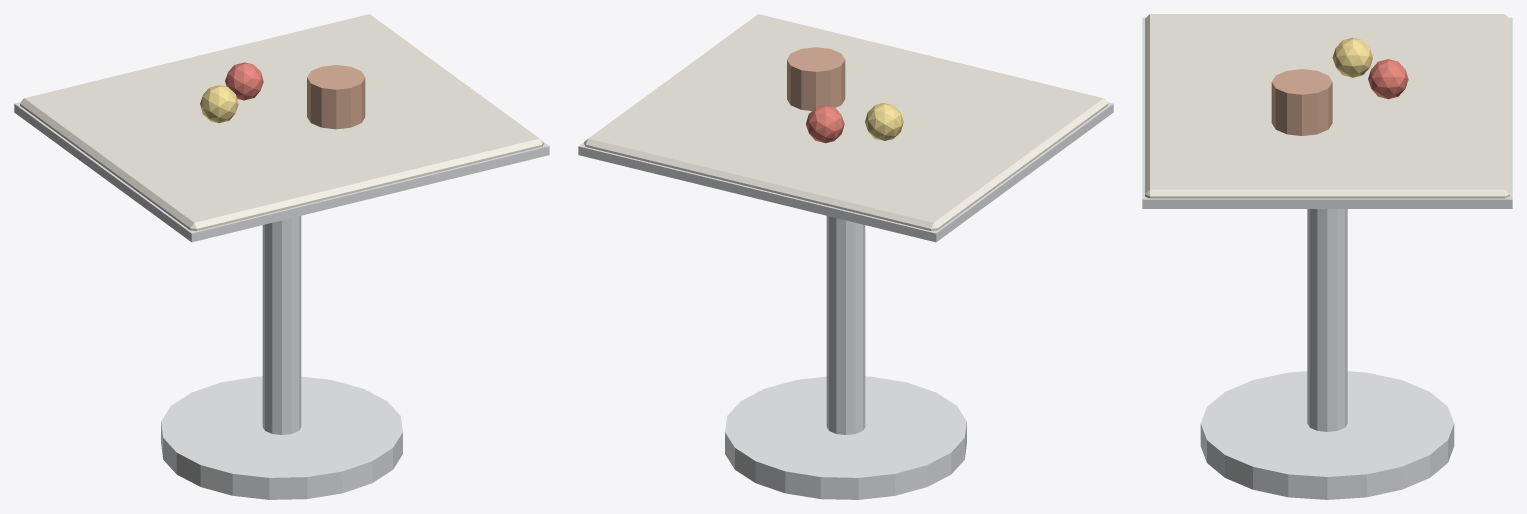
Rendered from dinette.glb.
3 views of the same model, side by side, from view 1: azimuth 30°, elevation 25°; view 2: azimuth 150°, elevation 25°; view 3: azimuth 270°, elevation 25° (orthographic). The views are drawn at different scales.
Parts seen in each view (by area): view 1: dinette_ctop, dinette_chrome, dinette_pot, dinette_food_y, dinette_food_r; view 2: dinette_ctop, dinette_chrome, dinette_pot, dinette_food_y, dinette_food_r; view 3: dinette_ctop, dinette_chrome, dinette_pot, dinette_food_r, dinette_food_y.
Part boxes in pixels (bbox=[...]): dinette_ctop: bbox=[20, 14, 543, 230]; dinette_chrome: bbox=[14, 102, 549, 499]; dinette_pot: bbox=[307, 65, 365, 129]; dinette_food_y: bbox=[200, 85, 238, 123]; dinette_food_r: bbox=[225, 62, 263, 100]; dinette_ctop: bbox=[584, 14, 1107, 230]; dinette_chrome: bbox=[578, 102, 1113, 499]; dinette_pot: bbox=[787, 47, 845, 110]; dinette_food_y: bbox=[865, 103, 903, 140]; dinette_food_r: bbox=[806, 105, 844, 143]; dinette_ctop: bbox=[1145, 14, 1509, 198]; dinette_chrome: bbox=[1142, 17, 1512, 499]; dinette_pot: bbox=[1271, 69, 1332, 135]; dinette_food_r: bbox=[1368, 59, 1408, 99]; dinette_food_y: bbox=[1332, 37, 1372, 77].
Bounding box in the file's own units: 0.85 × 0.84 × 0.73.
